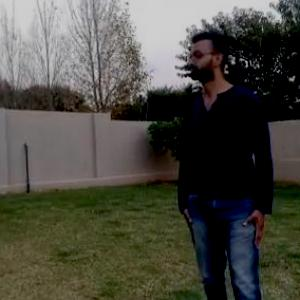follow: (176, 30, 278, 299)
